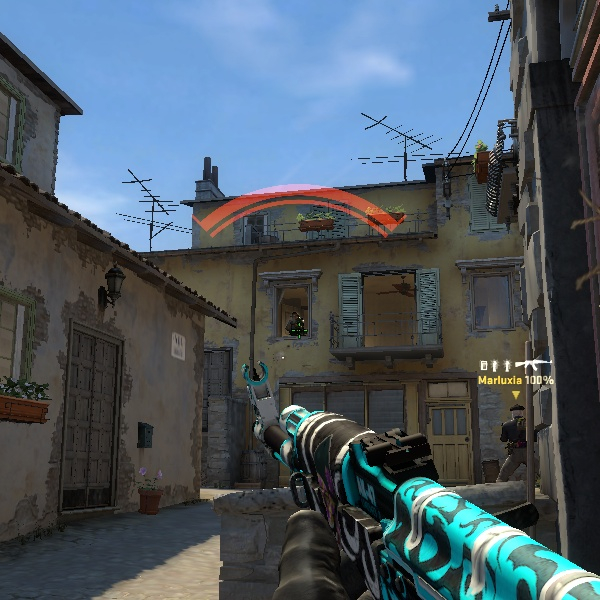t_body: (491, 401, 535, 489)
